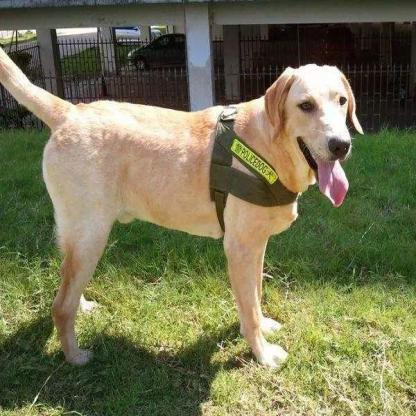Labarador Retriever: (0, 53, 361, 365)
